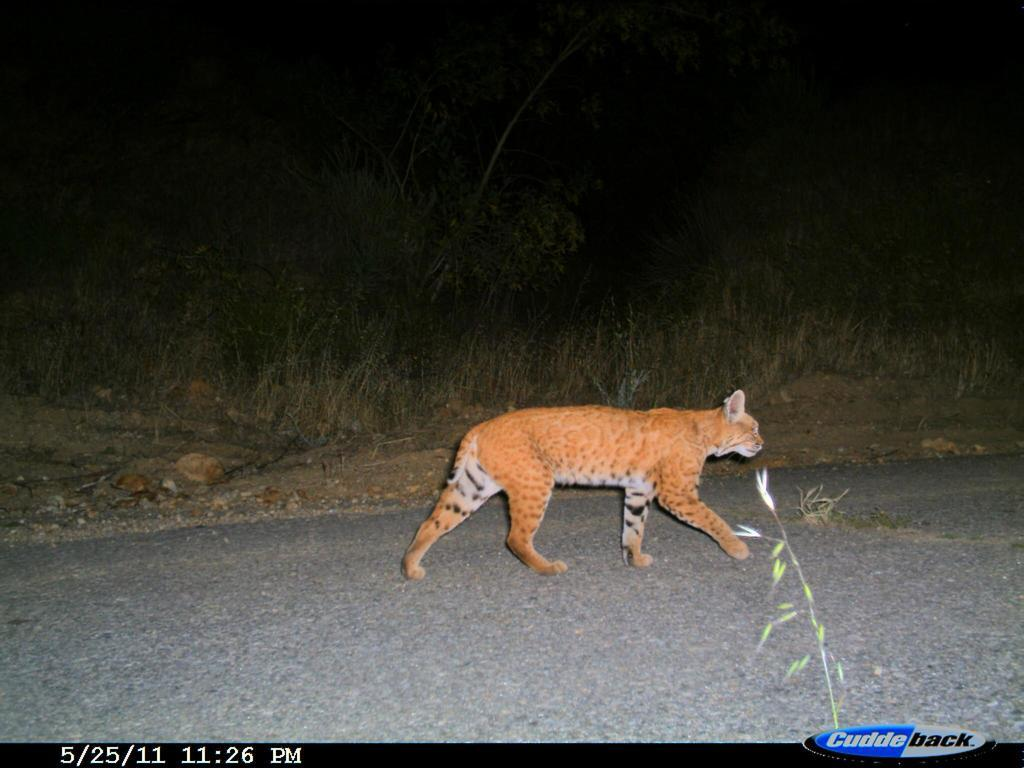bobcat: (381, 379, 776, 596)
